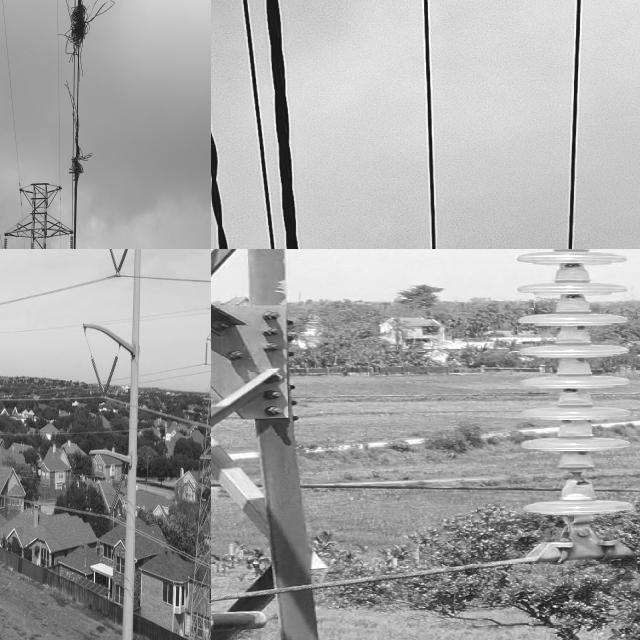杆塔: (211, 249, 640, 640), (178, 290, 211, 640)
正常绝缘子: (501, 249, 640, 554), (95, 472, 127, 521), (90, 354, 120, 401), (107, 249, 131, 276), (203, 337, 209, 368)
电缆破损: (59, 0, 103, 190)
绝缘子破损: (557, 454, 596, 488)
